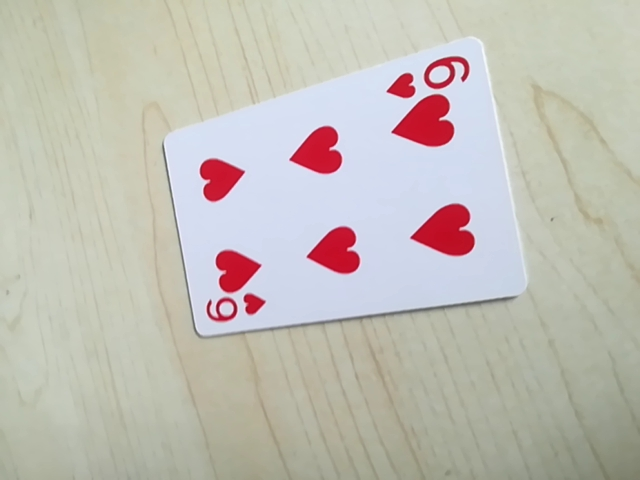hx 6: (381, 52, 472, 101), (202, 291, 269, 330)
